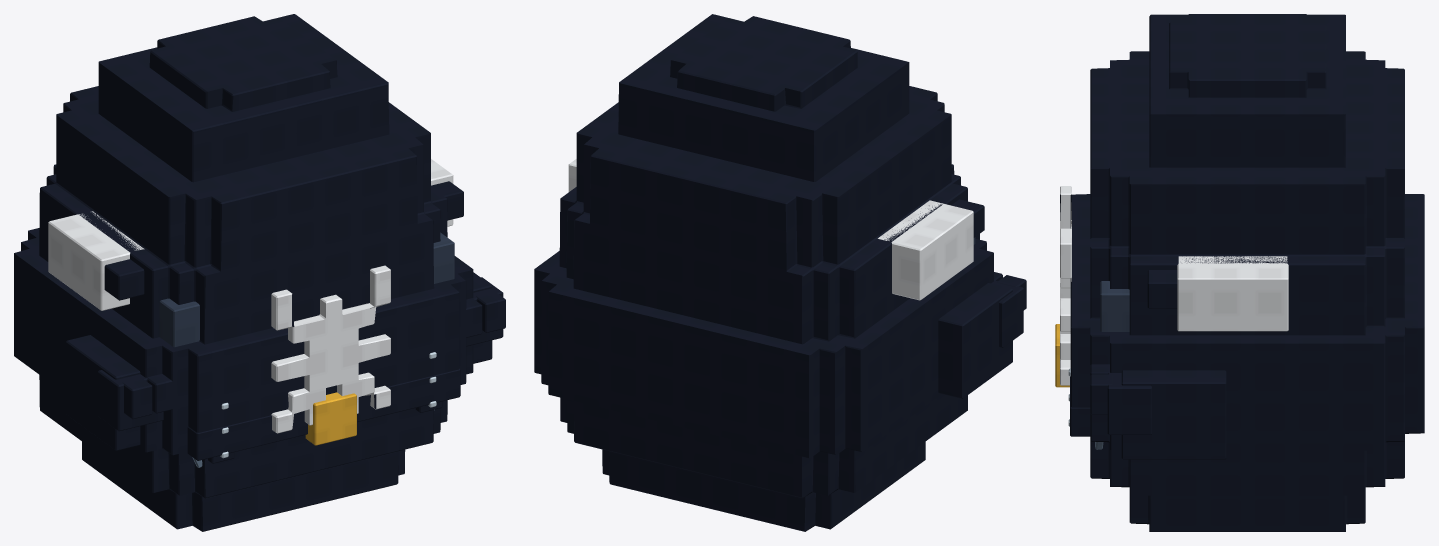
File: AgentVenom_Egg.fbx
3 views of the same model, side by side, from view 1: azimuth 30°, elevation 25°; view 2: azimuth 150°, elevation 25°; view 3: azimuth 270°, elevation 25° (orthographic). The views are drawn at different scales.
Visible parts, largest first — view 1: AgentVenom_Egg; view 2: AgentVenom_Egg; view 3: AgentVenom_Egg.
Part boxes in pixels (left/top/right/bottom): AgentVenom_Egg: left=14, top=14, right=505, bottom=531; AgentVenom_Egg: left=534, top=14, right=1026, bottom=531; AgentVenom_Egg: left=1055, top=14, right=1424, bottom=531.
Bounding box in the file's own units: 313 × 320 × 251.
Materials: 6 (6 with a texture image).
